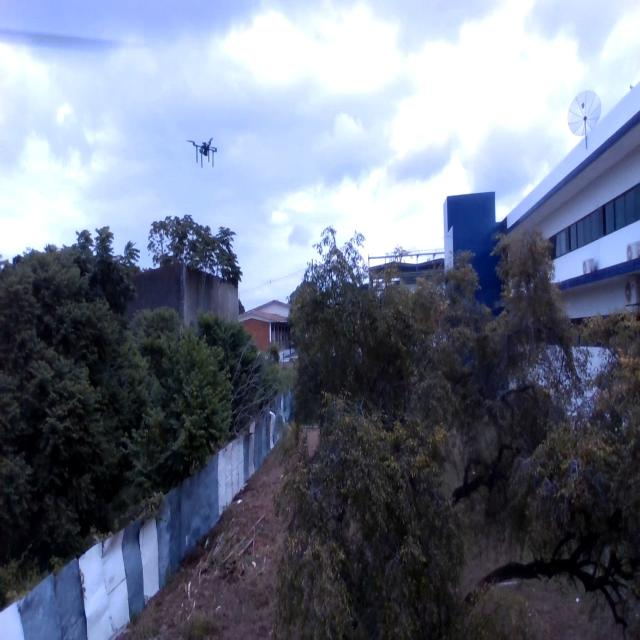-uav-: (182, 127, 222, 169)
